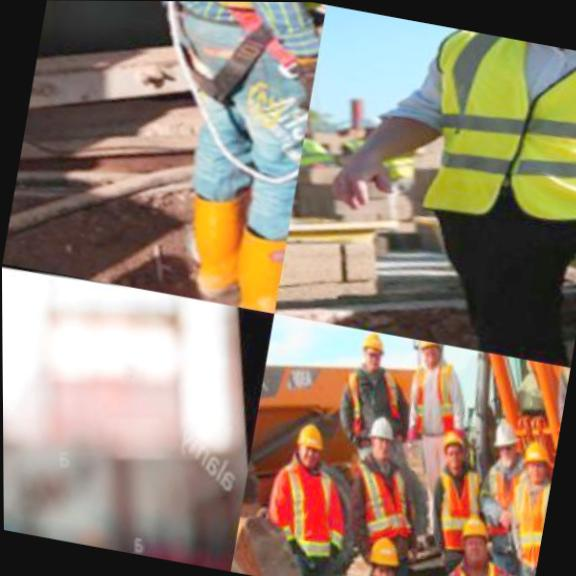safety_vest: (358, 16, 576, 249), (85, 1, 326, 68), (258, 453, 350, 560), (415, 450, 497, 555), (340, 443, 417, 541), (395, 348, 467, 436), (494, 465, 553, 569), (334, 355, 407, 437), (469, 450, 527, 519), (433, 545, 512, 576), (542, 364, 570, 426), (337, 556, 421, 576)
